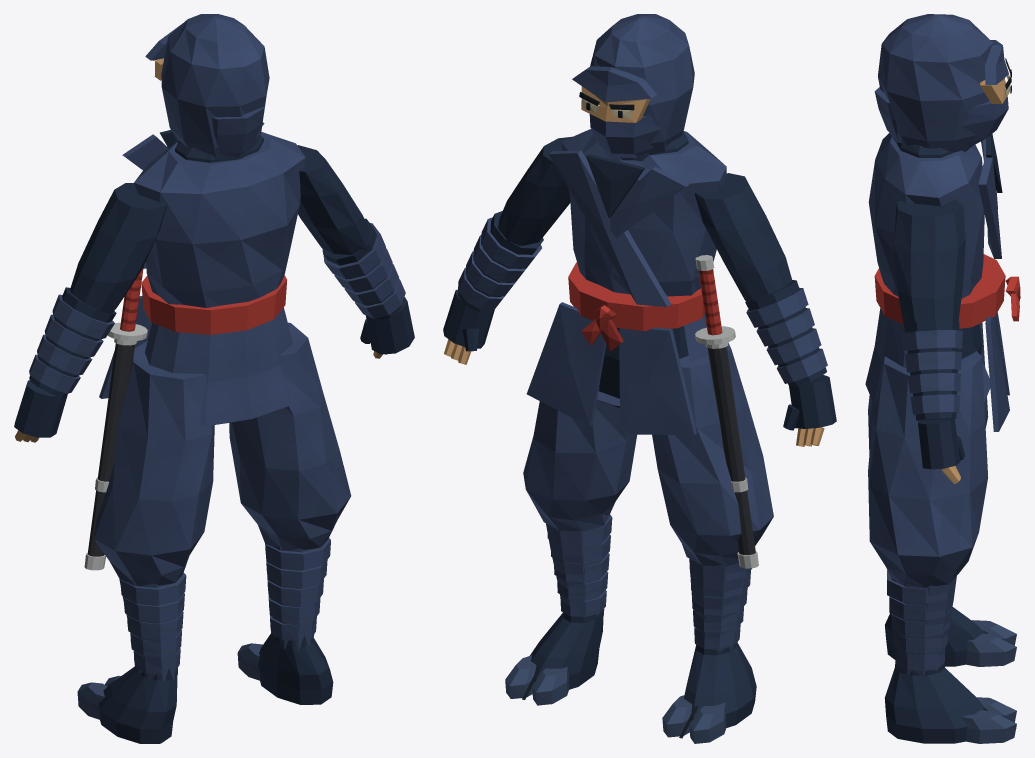
3 views of the same model, side by side, from view 1: azimuth 30°, elevation 25°; view 2: azimuth 150°, elevation 25°; view 3: azimuth 270°, elevation 25° (orthographic).
Size of the model in its own units: 1.02 by 1.7 by 0.353.
1 material, 1 textured.
